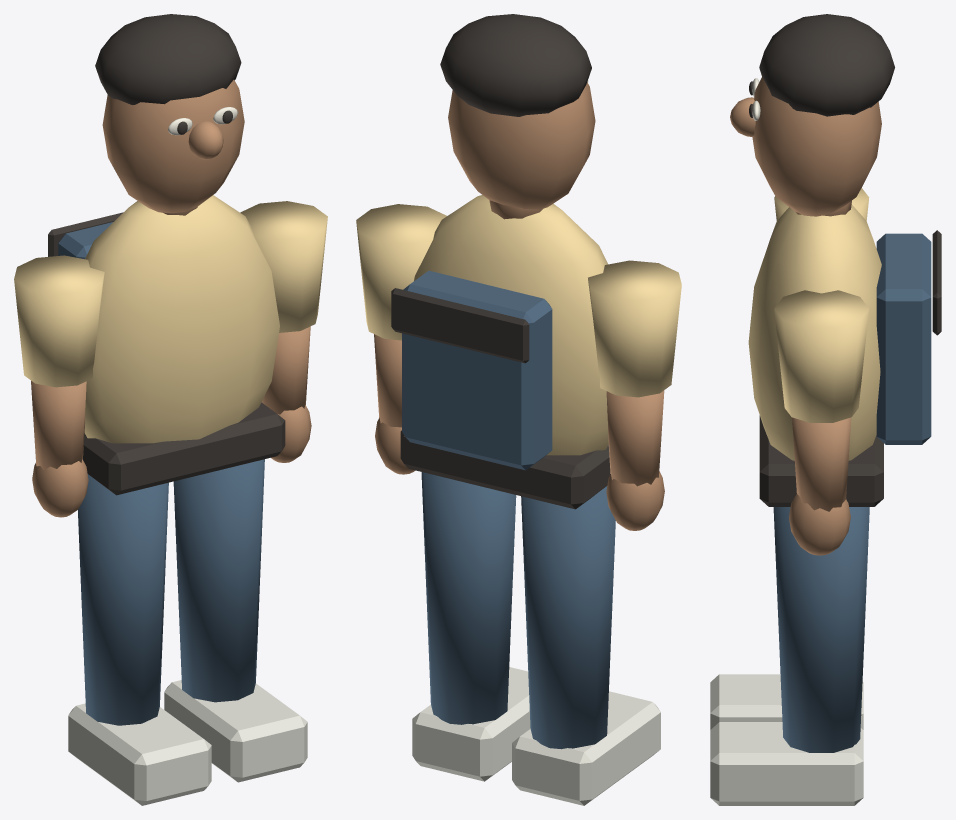
Rendered from courier.glb.
The picture shows the model from 3 angles, left to right: view 1: azimuth 30°, elevation 25°; view 2: azimuth 150°, elevation 25°; view 3: azimuth 270°, elevation 25°; orthographic projection. The views are drawn at different scales.
Visible parts, largest first — view 1: Shirt torso, Jeans, Jeans.001, Head, Hair, Sleeve, Sneaker, Hem, Sneaker.001, Sleeve.001, Forearm, Forearm.001 (+5 smaller); view 2: Jeans, Shoulder bag, Jeans.001, Shirt torso, Head, Hair, Sleeve, Sneaker, Hem, Sleeve.001, Sneaker.001, Bag flap (+4 smaller); view 3: Jeans.001, Shirt torso, Head, Shoulder bag, Hair, Sleeve.001, Sneaker.001, Forearm.001, Hem, Sneaker, Hand.001, Bag flap (+2 smaller).
Part boxes in pixels (x1=…): Shirt torso: x1=84, y1=195, x2=279, y2=443; Jeans: x1=78, y1=474, x2=168, y2=725; Jeans.001: x1=173, y1=459, x2=264, y2=702; Head: x1=102, y1=80, x2=244, y2=213; Hair: x1=95, y1=14, x2=241, y2=104; Sleeve: x1=14, y1=255, x2=104, y2=387; Sneaker: x1=68, y1=703, x2=211, y2=805; Hem: x1=83, y1=402, x2=285, y2=495; Sneaker.001: x1=164, y1=680, x2=307, y2=782; Sleeve.001: x1=240, y1=201, x2=327, y2=332; Forearm: x1=31, y1=381, x2=86, y2=469; Forearm.001: x1=261, y1=326, x2=310, y2=414; Jeans: x1=521, y1=486, x2=615, y2=749; Shoulder bag: x1=402, y1=270, x2=552, y2=470; Jeans.001: x1=421, y1=472, x2=516, y2=724; Shirt torso: x1=414, y1=195, x2=608, y2=455; Head: x1=448, y1=82, x2=595, y2=209; Hair: x1=440, y1=14, x2=591, y2=116; Sleeve: x1=588, y1=260, x2=681, y2=397; Sneaker: x1=512, y1=691, x2=660, y2=805; Hem: x1=400, y1=430, x2=610, y2=509; Sleeve.001: x1=356, y1=204, x2=446, y2=340; Sneaker.001: x1=412, y1=667, x2=530, y2=781; Bag flap: x1=391, y1=288, x2=529, y2=363; Jeans.001: x1=773, y1=507, x2=869, y2=752; Shirt torso: x1=748, y1=204, x2=881, y2=460; Head: x1=752, y1=77, x2=881, y2=216; Shoulder bag: x1=876, y1=233, x2=931, y2=444; Hair: x1=759, y1=14, x2=894, y2=116; Sleeve.001: x1=774, y1=290, x2=868, y2=422; Sneaker.001: x1=710, y1=722, x2=863, y2=805; Forearm.001: x1=792, y1=417, x2=851, y2=511; Hem: x1=759, y1=415, x2=883, y2=506; Sneaker: x1=710, y1=674, x2=863, y2=729; Hand.001: x1=789, y1=494, x2=850, y2=555; Bag flap: x1=932, y1=230, x2=941, y2=335.
Size of the model in its own units: 0.9673 by 2.24 by 0.6335.
